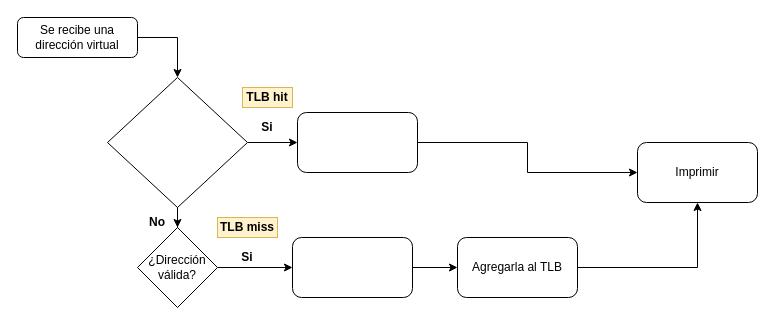
Image size: 775x325. Some labels were removed from this diagram. Here are the shapes that lost their labels. From the top down, the box of each, then its label:
(106, 76, 248, 208): ¿Ya hay traducción para la dirección virtual?
(296, 112, 418, 172): Extraer el número del registro TLB
(292, 236, 412, 298): Realizar la traducción
